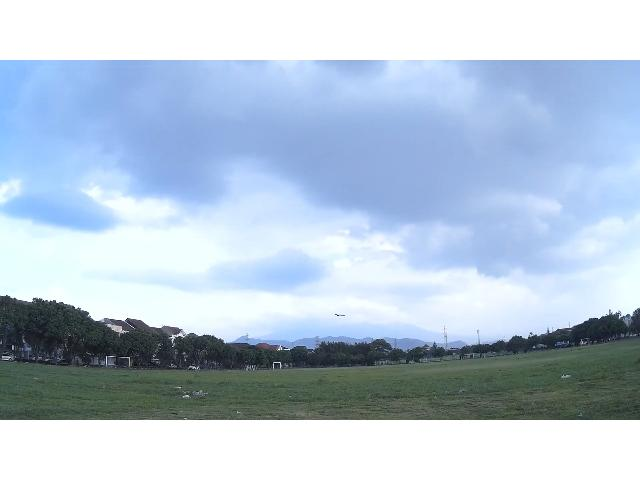Anti-Drone: (335, 314, 345, 316)
